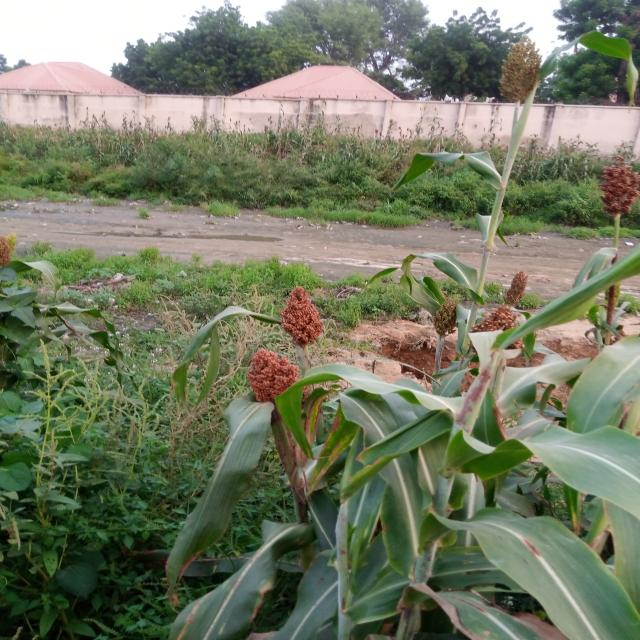RipeSorghum: (231, 346, 315, 412), (265, 278, 345, 346)
